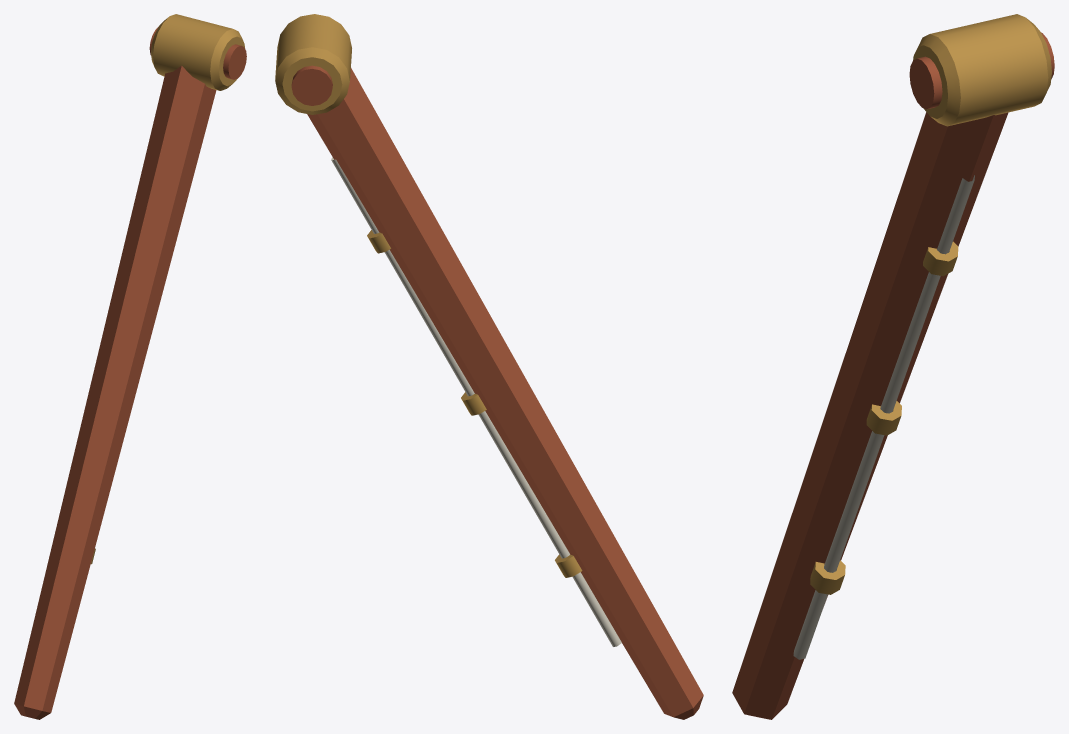
Rendered from rm2_leg_fr_tibia.obj.
3 views of the same model, side by side, from view 1: azimuth 30°, elevation 25°; view 2: azimuth 150°, elevation 25°; view 3: azimuth 270°, elevation 25° (orthographic). The views are drawn at different scales.
Visible parts, largest first — view 1: rm2_leg_fr_tibia; view 2: rm2_leg_fr_tibia; view 3: rm2_leg_fr_tibia.
Boxes of the visible parts, <box> form: rm2_leg_fr_tibia: <box>14,14,246,719</box>; rm2_leg_fr_tibia: <box>275,14,703,719</box>; rm2_leg_fr_tibia: <box>732,14,1054,719</box>.
Size of the model in its own units: 0.4226 by 0.8056 by 0.2731.
